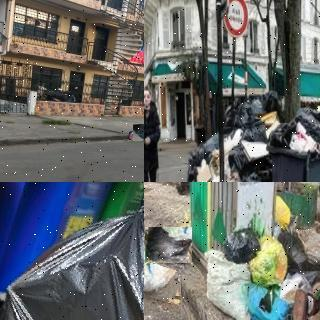Garbage: (0, 182, 144, 320), (203, 247, 251, 320), (144, 245, 183, 300), (250, 235, 286, 287), (244, 278, 287, 320), (145, 227, 192, 263), (278, 223, 309, 272), (221, 226, 262, 262), (133, 124, 144, 141), (129, 132, 140, 141)
